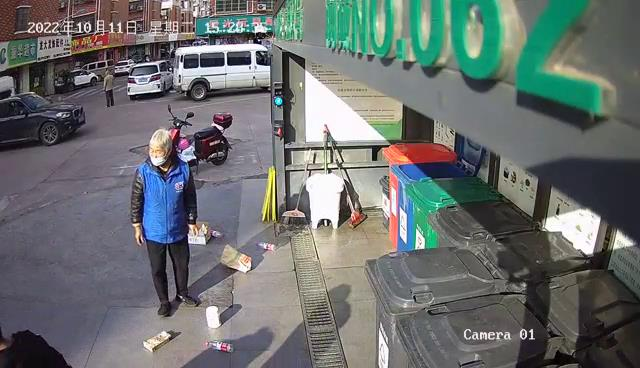lvzhipin: (204, 303, 223, 329)
suliaozhipin: (200, 338, 238, 354), (253, 237, 279, 253), (208, 226, 224, 239)
worker: (127, 125, 202, 320)
zhizhipin: (218, 242, 253, 276), (141, 328, 176, 353), (185, 218, 211, 246)
